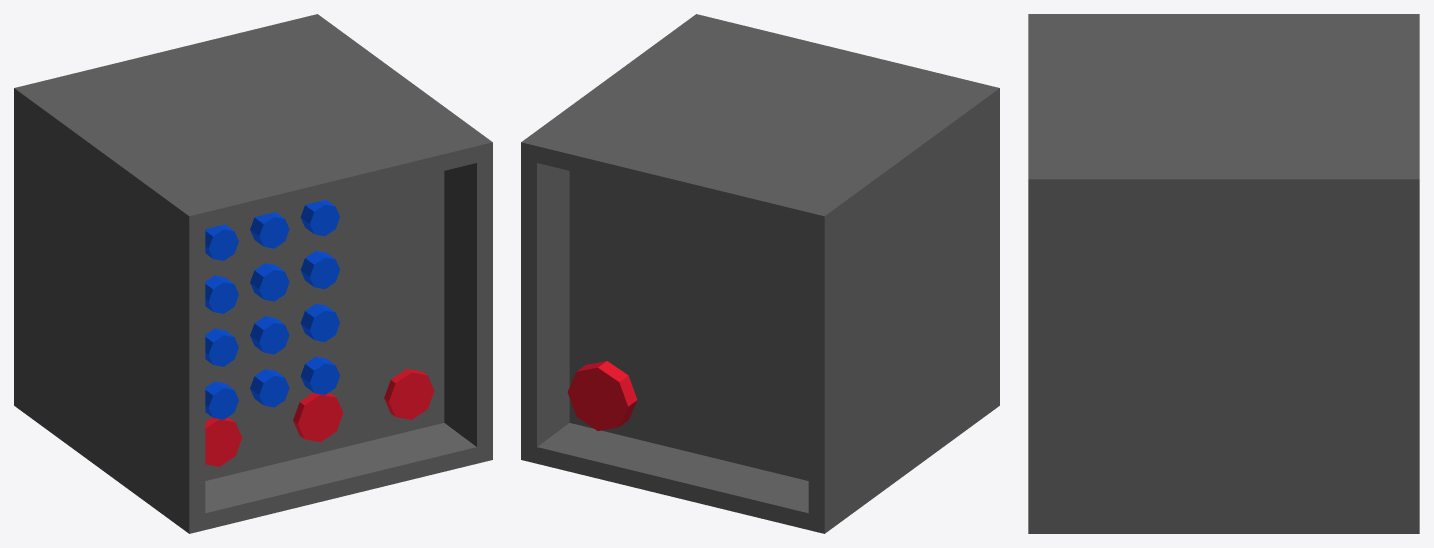
Rendered from powerbox63-2.glb.
3 views of the same model, side by side, from view 1: azimuth 30°, elevation 25°; view 2: azimuth 150°, elevation 25°; view 3: azimuth 270°, elevation 25° (orthographic). The views are drawn at different scales.
Visible parts, largest first — view 1: Powerbox; view 2: Powerbox; view 3: Powerbox.
Part boxes in pixels (x1,y1,x2,y2): Powerbox: [14, 14, 492, 533]; Powerbox: [521, 14, 999, 533]; Powerbox: [1028, 14, 1419, 533].
Size of the model in its own units: 0.6 by 0.6 by 0.6.
